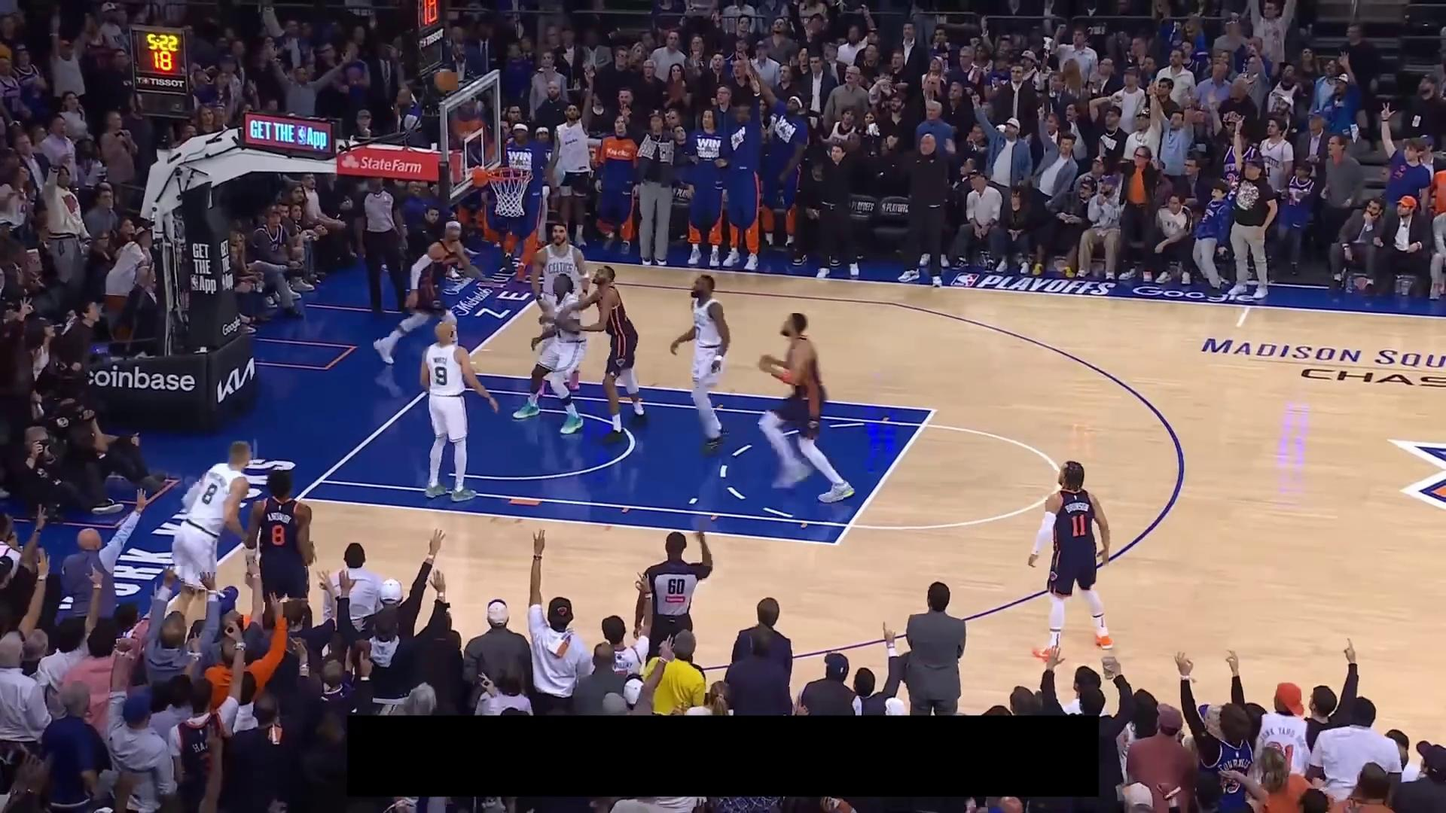ball: (431, 67, 460, 95)
number: (1070, 513, 1087, 537), (268, 522, 285, 546), (433, 363, 450, 386), (201, 483, 218, 505), (693, 324, 702, 341)
player: (1024, 457, 1118, 665), (755, 310, 855, 504), (371, 216, 486, 363), (559, 263, 651, 446), (170, 436, 255, 626), (419, 319, 501, 502), (512, 271, 588, 436), (246, 465, 321, 627), (528, 219, 594, 403), (669, 270, 735, 450)
referee: (629, 522, 717, 663), (350, 176, 411, 309)
rim: (487, 165, 533, 182)
